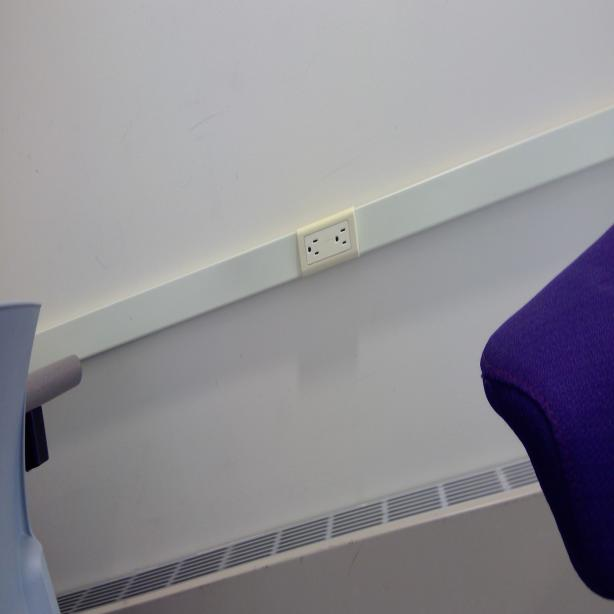typeb: (302, 230, 322, 260), (332, 222, 350, 252)
